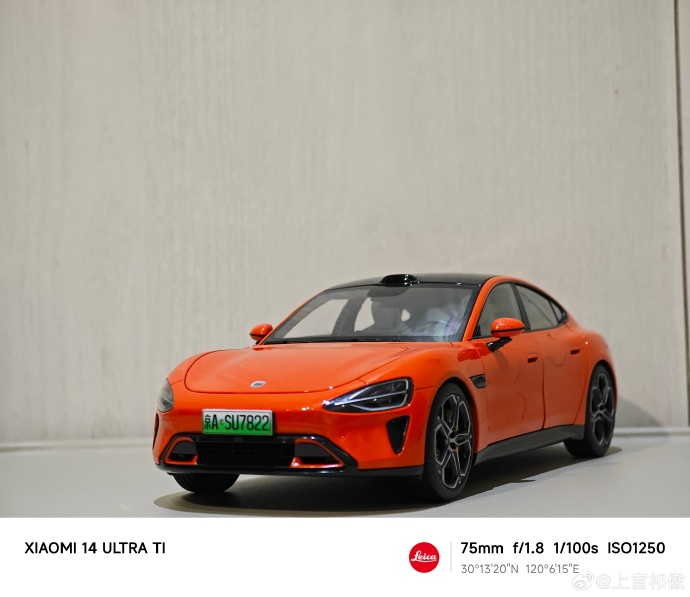su7: (144, 273, 629, 497)
